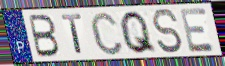B: (28, 13, 62, 59)
C: (88, 10, 125, 57)
E: (178, 7, 217, 54)
Q: (119, 9, 159, 56)
S: (150, 7, 185, 55)
T: (60, 13, 85, 56)
